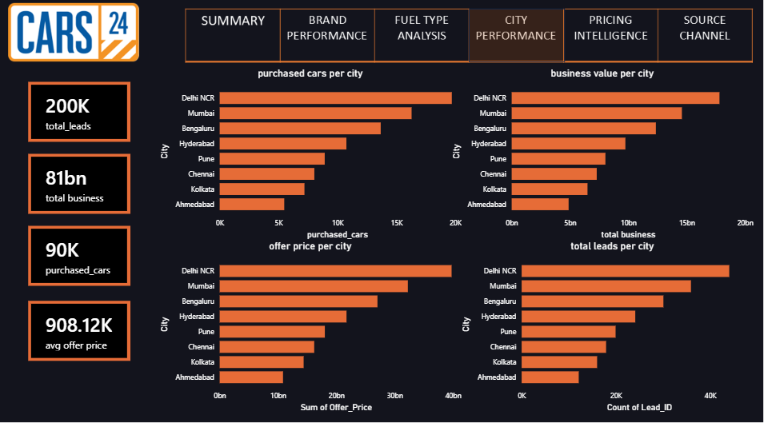

The dashboard page shown, as its layout file describes it:
{"tool":"powerbi","page":{"name":"city performance","canvas":[1280,720],"ordinal":3},"visuals":[{"type":"barChart","title":"business value per city","fields":{"Category":["Cars24_Realistic_Dataset_FULL_c.City"],"Y":["Cars24_Realistic_Dataset_FULL_c.total_buisness_value"]},"box":[753.8,118.8,503.8,287.5],"z":0},{"type":"barChart","title":"purchased cars per city","fields":{"Category":["Cars24_Realistic_Dataset_FULL_c.City"],"Y":["Cars24_Realistic_Dataset_FULL_c.purchased_cars"]},"box":[266.2,118.8,503.8,287.5],"z":1000},{"type":"barChart","title":"total leads per city","fields":{"Category":["Cars24_Realistic_Dataset_FULL_c.City"],"Y":["CountNonNull(Cars24_Realistic_Dataset_FULL_c.Lead_ID)"]},"box":[770,406.2,503.8,287.5],"z":2000},{"type":"barChart","title":"offer price per city","fields":{"Category":["Cars24_Realistic_Dataset_FULL_c.City"],"Y":["Sum(Cars24_Realistic_Dataset_FULL_c.Offer_Price)"]},"box":[266.2,406.2,503.8,287.5],"z":3000},{"type":"cardVisual","fields":{"Data":["Cars24_Realistic_Dataset_FULL_c.total_leads"]},"box":[48.8,143.8,170,100],"z":4000},{"type":"cardVisual","fields":{"Data":["Avg(Cars24_Realistic_Dataset_FULL_c.Offer_Price)"]},"box":[48.8,508.8,170,100],"z":5000},{"type":"cardVisual","fields":{"Data":["Cars24_Realistic_Dataset_FULL_c.purchased_cars"]},"box":[48.8,382.5,170,100],"z":6000},{"type":"cardVisual","fields":{"Data":["Cars24_Realistic_Dataset_FULL_c.total_buisness_value"]},"box":[48.8,262.5,170,100],"z":7000},{"type":"actionButton","box":[470,22.7,154.5,92.7],"z":7001},{"type":"actionButton","box":[624.5,22.7,158.2,92.7],"z":7002},{"type":"actionButton","box":[940.9,22.7,158.2,92.7],"z":7003},{"type":"actionButton","box":[1099.1,22.7,158.2,92.7],"z":7004},{"type":"actionButton","box":[311.8,23.6,154.5,92.7],"z":7005}]}

Visuals, with their boxes in screenshot pixels (x1, y1, x2, y2), scaled from the page's 1280x720 canvas onto the 764x423 screenshot:
"business value per city" barChart: [x1=450, y1=70, x2=751, y2=239]
"purchased cars per city" barChart: [x1=159, y1=70, x2=460, y2=239]
"total leads per city" barChart: [x1=460, y1=239, x2=760, y2=408]
"offer price per city" barChart: [x1=159, y1=239, x2=460, y2=408]
cardVisual - Cars24_Realistic_Dataset_FULL_c.total_leads: [x1=29, y1=84, x2=131, y2=143]
cardVisual - Avg(Cars24_Realistic_Dataset_FULL_c.Offer_Price): [x1=29, y1=299, x2=131, y2=358]
cardVisual - Cars24_Realistic_Dataset_FULL_c.purchased_cars: [x1=29, y1=225, x2=131, y2=283]
cardVisual - Cars24_Realistic_Dataset_FULL_c.total_buisness_value: [x1=29, y1=154, x2=131, y2=213]
actionButton: [x1=281, y1=13, x2=373, y2=68]
actionButton: [x1=373, y1=13, x2=467, y2=68]
actionButton: [x1=562, y1=13, x2=656, y2=68]
actionButton: [x1=656, y1=13, x2=750, y2=68]
actionButton: [x1=186, y1=14, x2=278, y2=68]
